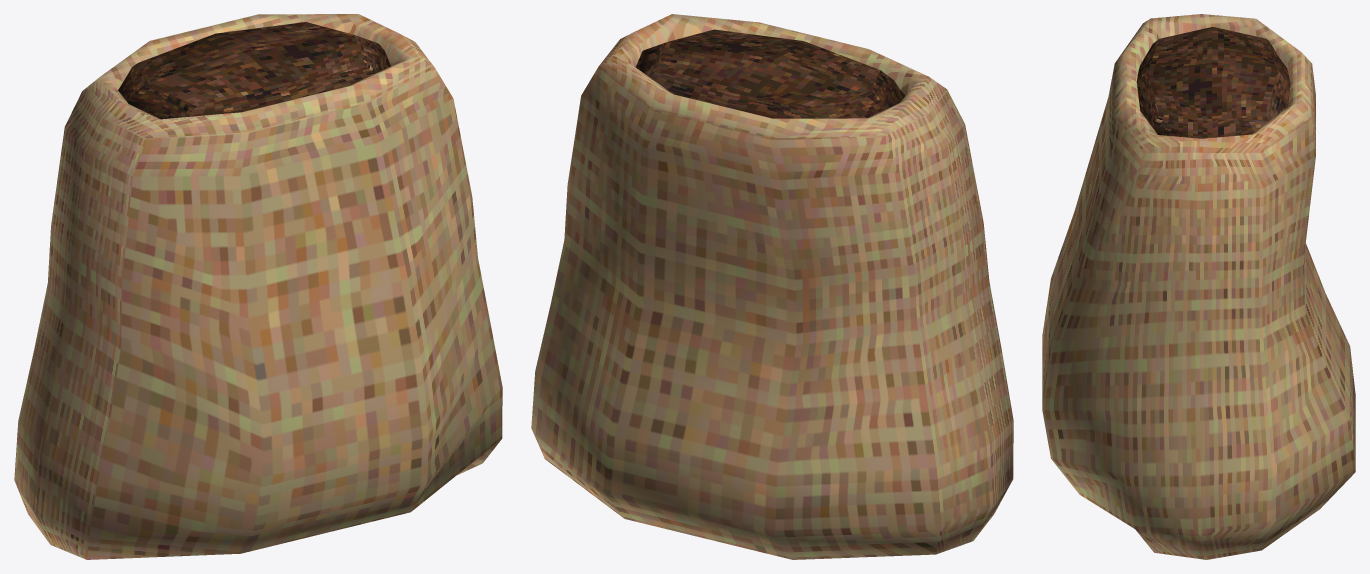
The model's file is FertilizerBag.fbx.
The picture shows the model from 3 angles, left to right: view 1: azimuth 30°, elevation 25°; view 2: azimuth 150°, elevation 25°; view 3: azimuth 270°, elevation 25°; orthographic projection. The views are drawn at different scales.
Visible parts, largest first — view 1: Fertilizer; view 2: Fertilizer; view 3: Fertilizer.
Part boxes in pixels (bbox=[...]): Fertilizer: bbox=[14, 14, 502, 559]; Fertilizer: bbox=[531, 14, 1013, 559]; Fertilizer: bbox=[1042, 14, 1355, 559].
Bounding box in the file's own units: 470 × 462 × 313.
